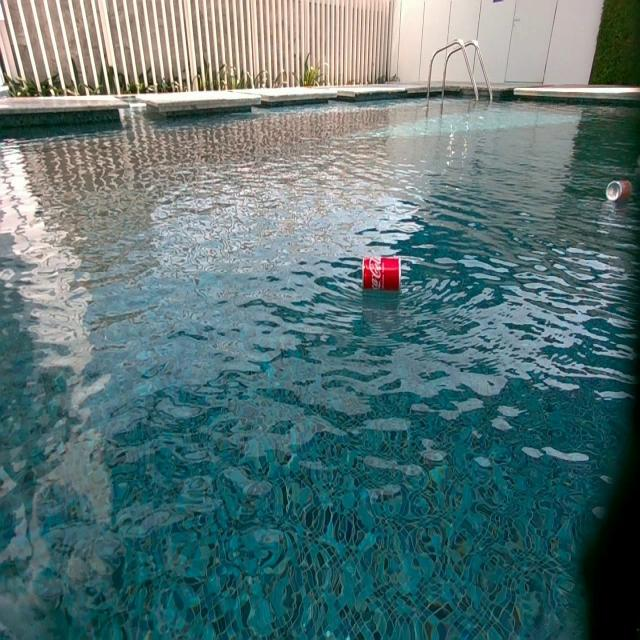Cans: (362, 256, 401, 292), (608, 178, 633, 202)
